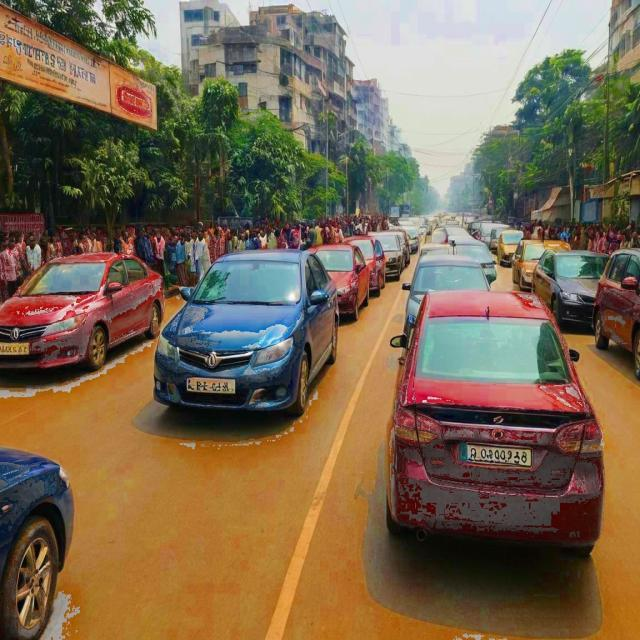black: (535, 246, 616, 327)
blue: (152, 239, 332, 426)
maroon: (383, 279, 613, 572), (596, 244, 640, 385), (295, 241, 364, 324)
red: (0, 250, 164, 402)
